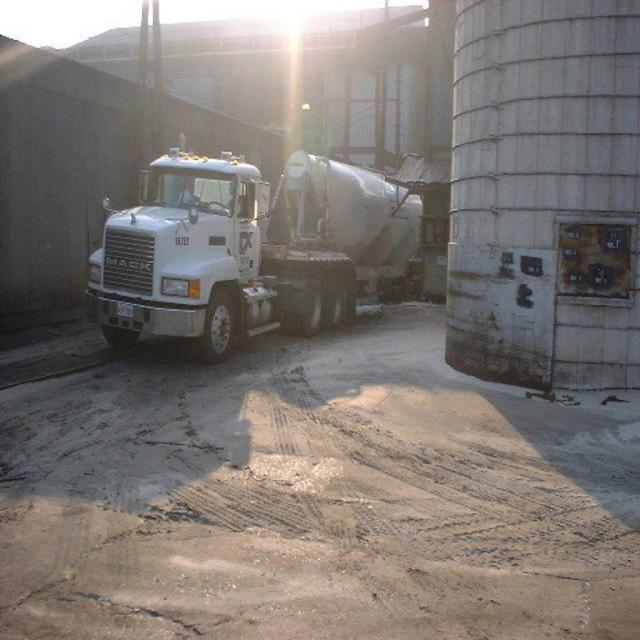bicycle: (40, 140, 414, 360)
